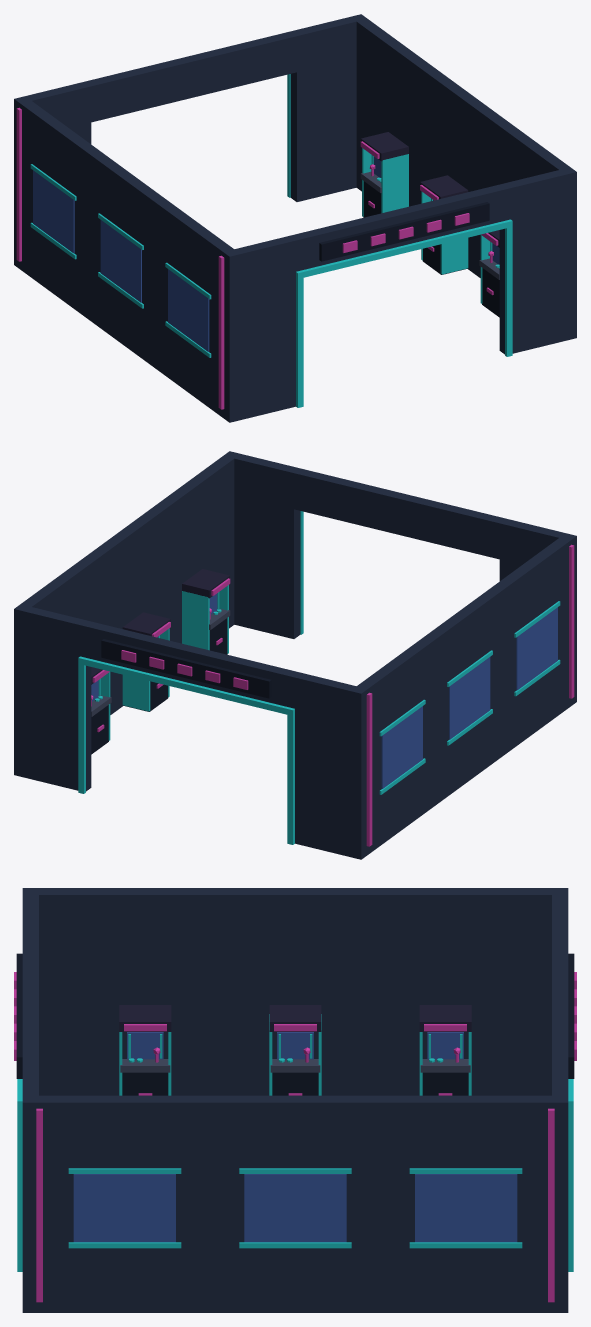
Rendered from Neon_ArcadePassage_Showcase.glb.
3 views of the same model, one above another, from view 1: azimuth 30°, elevation 25°; view 2: azimuth 150°, elevation 25°; view 3: azimuth 270°, elevation 25° (orthographic). The views are drawn at different scales.
Visible parts, largest first — view 1: Neon_ArcadePassage_Showcase; view 2: Neon_ArcadePassage_Showcase; view 3: Neon_ArcadePassage_Showcase.
Part boxes in pixels (x1,y1,x2,y2): Neon_ArcadePassage_Showcase: (14,14,576,422); Neon_ArcadePassage_Showcase: (14,451,576,859); Neon_ArcadePassage_Showcase: (14,888,576,1312).
Size of the model in its own units: 7.56 by 3.4 by 8.25.
